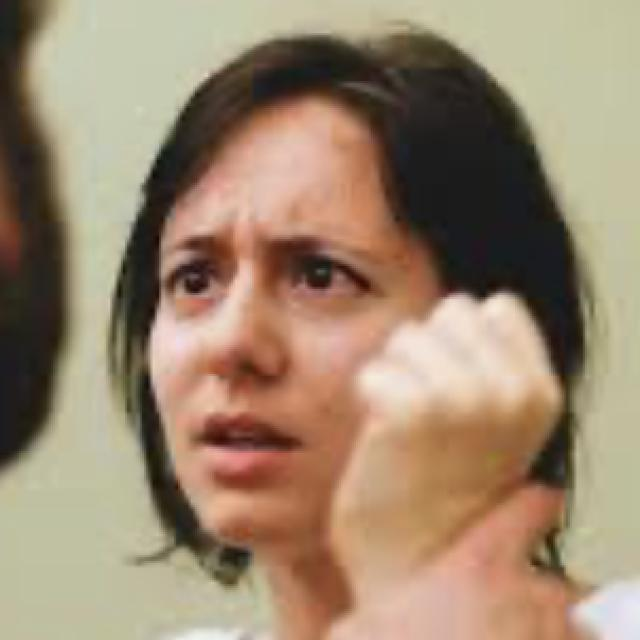angry: (111, 79, 505, 549)
